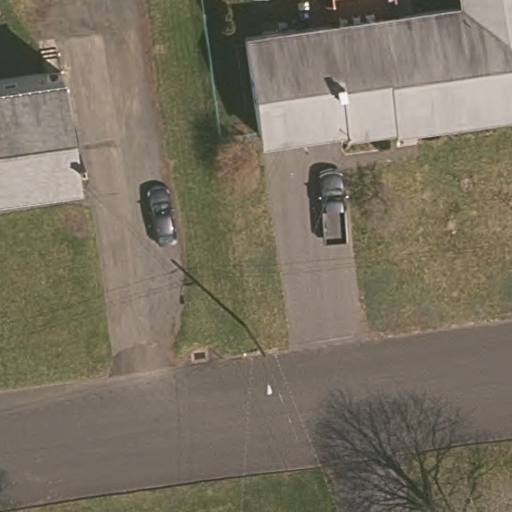DT: (223, 342, 273, 367)
